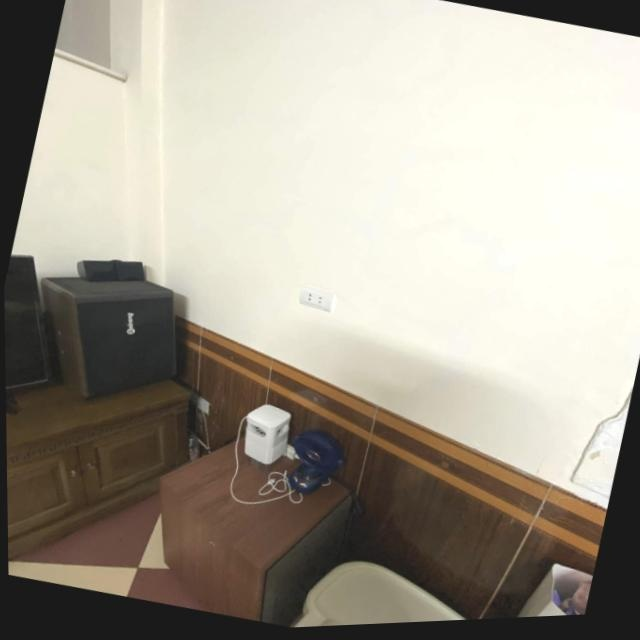outlet: (295, 284, 336, 314)
